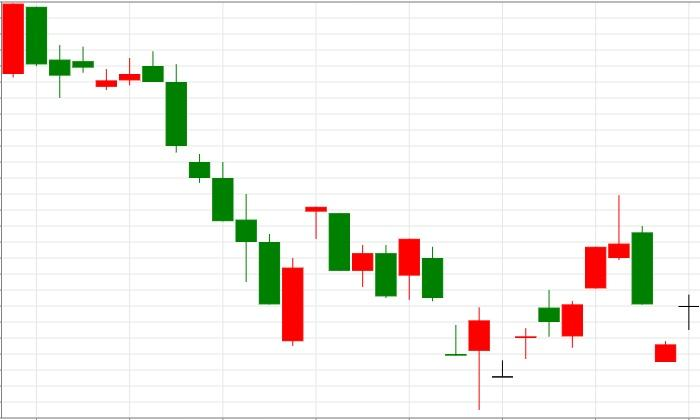shooting_star_fall: (491, 195, 630, 378)
three_black_crows_fall: (95, 50, 211, 183)
